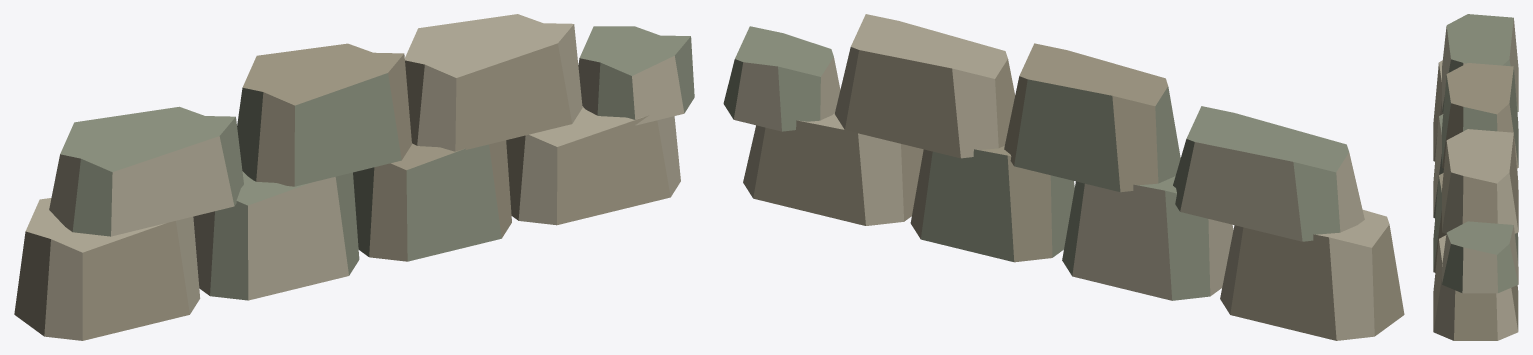
The model's file is craftedWall.glb.
3 views of the same model, side by side, from view 1: azimuth 30°, elevation 25°; view 2: azimuth 150°, elevation 25°; view 3: azimuth 270°, elevation 25° (orthographic). The views are drawn at different scales.
Parts seen in each view (by area): view 1: craftedWall_combined_lowpoly_mesh; view 2: craftedWall_combined_lowpoly_mesh; view 3: craftedWall_combined_lowpoly_mesh.
Boxes of the visible parts, x1,y1,x2,y2 form: craftedWall_combined_lowpoly_mesh: (14, 14, 694, 340); craftedWall_combined_lowpoly_mesh: (723, 14, 1404, 340); craftedWall_combined_lowpoly_mesh: (1433, 14, 1518, 340).
Bounding box in the file's own units: 2.02 × 0.556 × 0.311.
